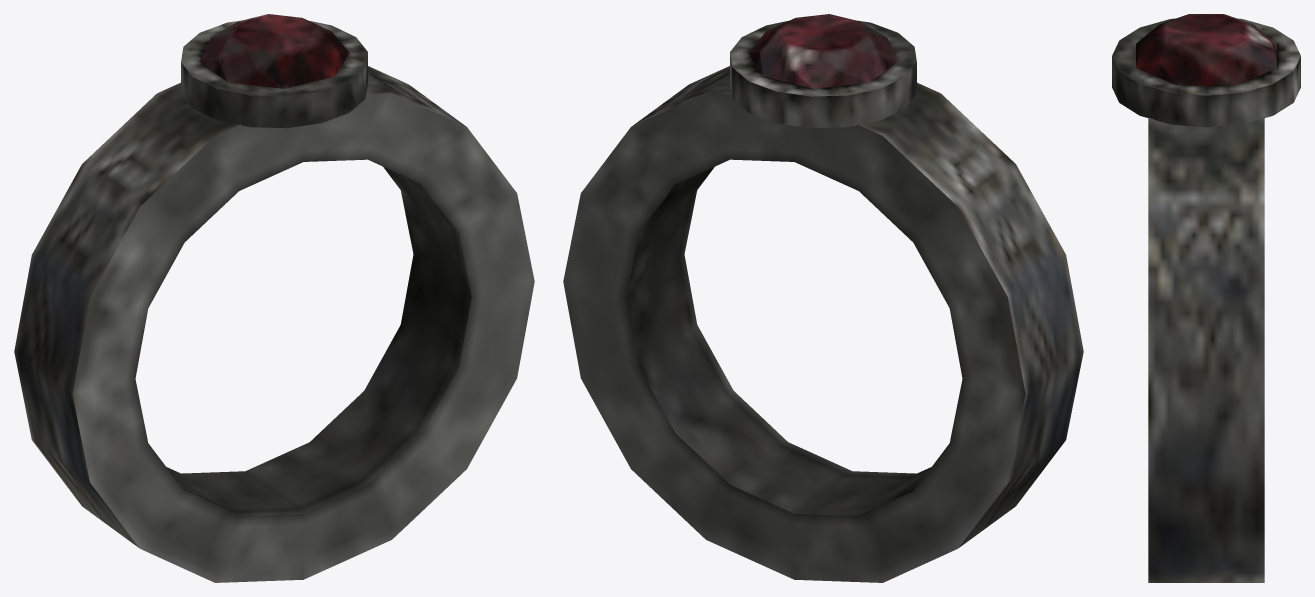
The model's file is ring.fbx.
3 renders of one model, left to right at view 1: azimuth 30°, elevation 25°; view 2: azimuth 150°, elevation 25°; view 3: azimuth 270°, elevation 25°, orthographic.
Parts seen in each view (by area): view 1: Ring; view 2: Ring; view 3: Ring.
Boxes of the visible parts, x1=… form: Ring: x1=14, y1=14, x2=534, y2=582; Ring: x1=563, y1=14, x2=1083, y2=582; Ring: x1=1112, y1=14, x2=1300, y2=582.
Size of the model in its own units: 0.0968 by 0.1051 by 0.0342.
